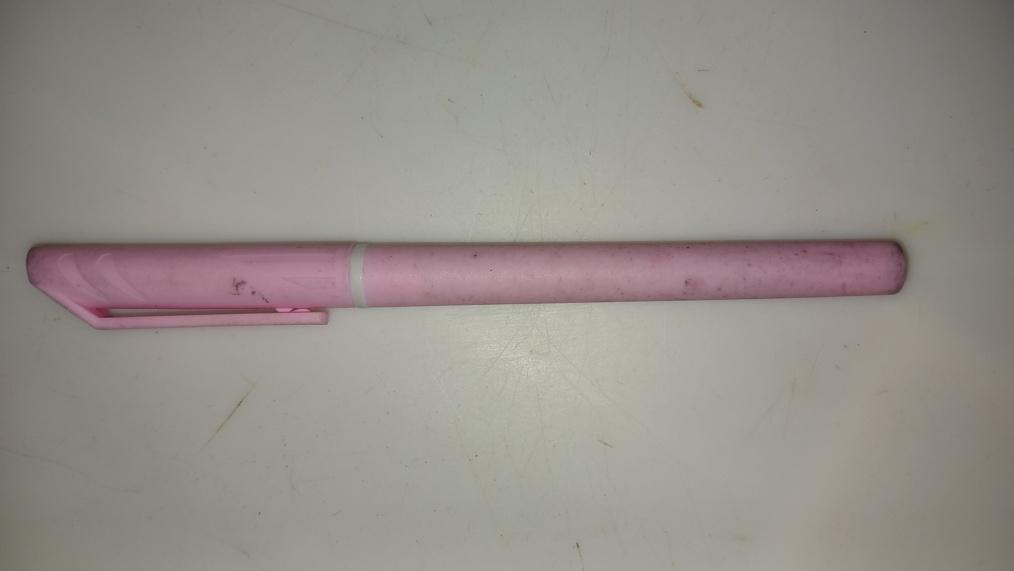pen: (26, 237, 912, 329)
